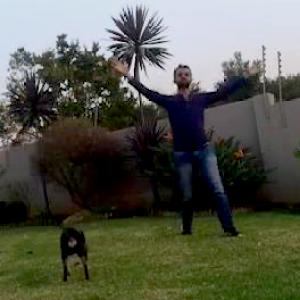takeoff: (118, 67, 249, 226)
